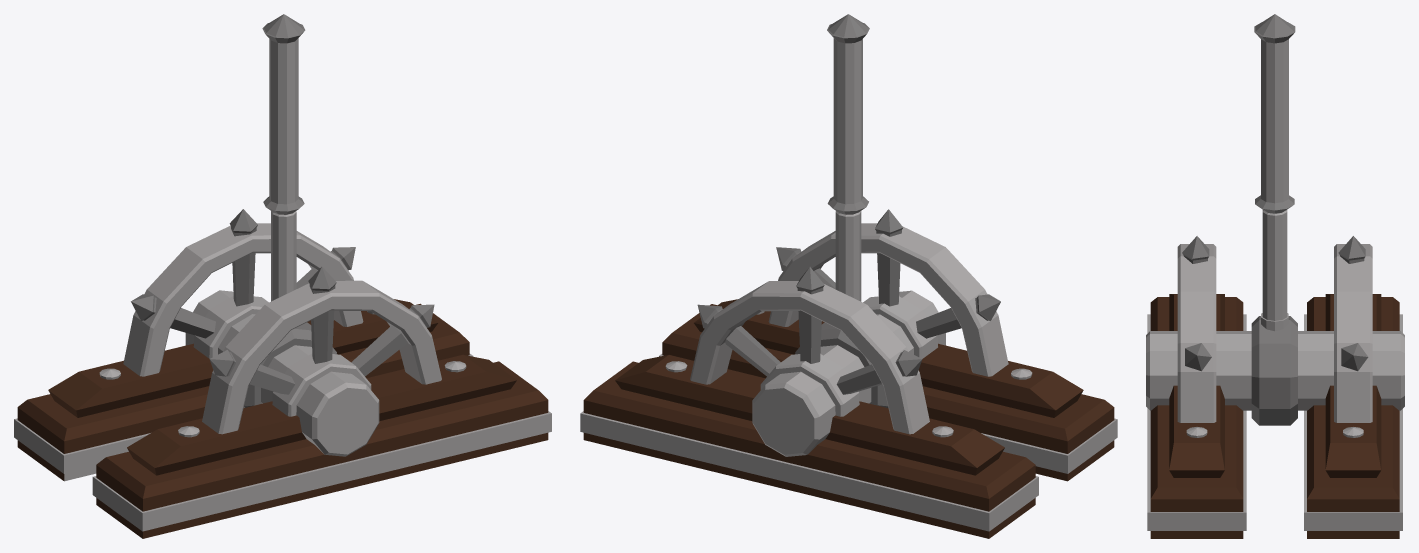
File: WoodenFloorLever_1.fbx
The picture shows the model from 3 angles, left to right: view 1: azimuth 30°, elevation 25°; view 2: azimuth 150°, elevation 25°; view 3: azimuth 270°, elevation 25°; orthographic projection.
Parts seen in each view (by area): view 1: WoodenFloorLever_1_Casing, WoodenFloorLever_1_Handle; view 2: WoodenFloorLever_1_Casing, WoodenFloorLever_1_Handle; view 3: WoodenFloorLever_1_Casing, WoodenFloorLever_1_Handle.
Boxes of the visible parts, x1,y1,x2,y2 form: WoodenFloorLever_1_Casing: [14, 209, 551, 538]; WoodenFloorLever_1_Handle: [185, 14, 379, 456]; WoodenFloorLever_1_Casing: [580, 209, 1117, 538]; WoodenFloorLever_1_Handle: [752, 14, 945, 456]; WoodenFloorLever_1_Casing: [1147, 236, 1402, 538]; WoodenFloorLever_1_Handle: [1146, 14, 1404, 425].
Bounding box in the file's own units: 112 × 113 × 61.84.
